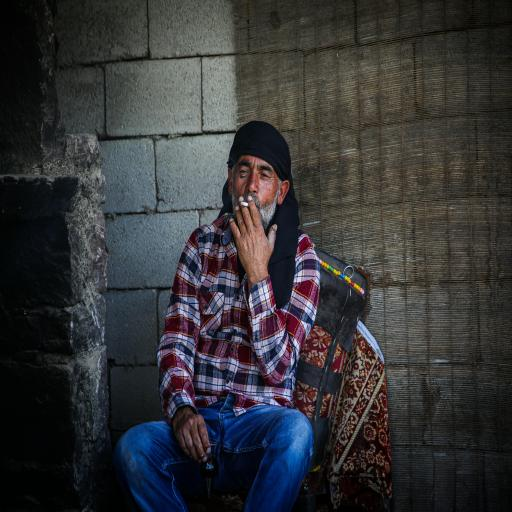terdeteksi merokok: (224, 151, 275, 244), (247, 182, 290, 216), (251, 202, 257, 212), (237, 178, 245, 182), (289, 165, 289, 171)
